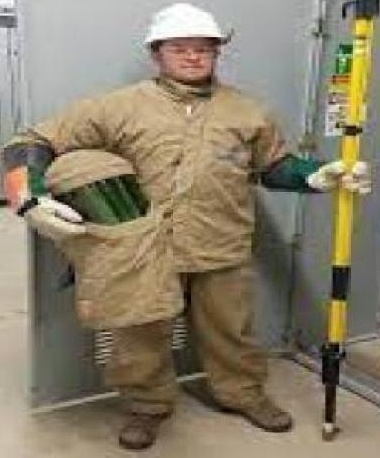boots: (221, 393, 291, 431), (118, 408, 172, 448)
gloves: (305, 158, 371, 194)
hard-hat: (43, 147, 145, 224)
ppe-suit: (0, 72, 292, 424)
